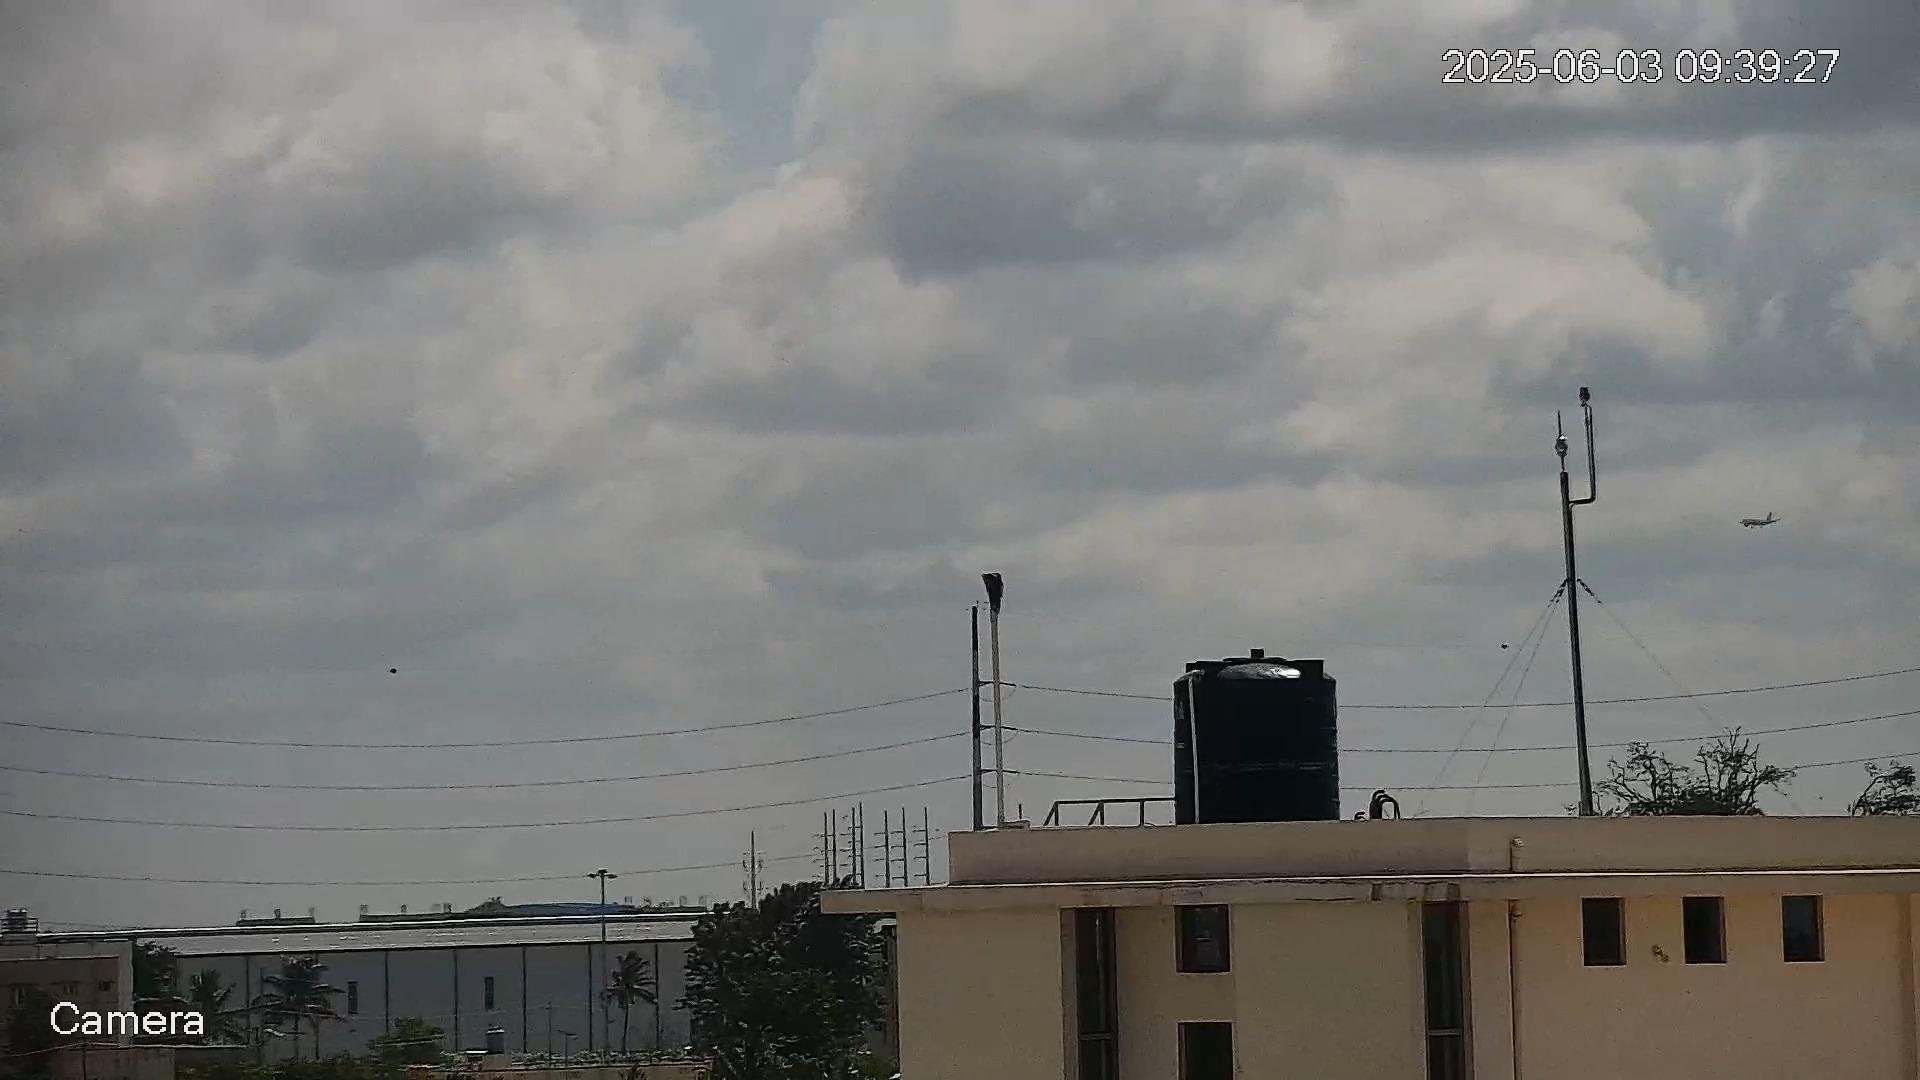Aircraft: (1738, 512, 1780, 529)
